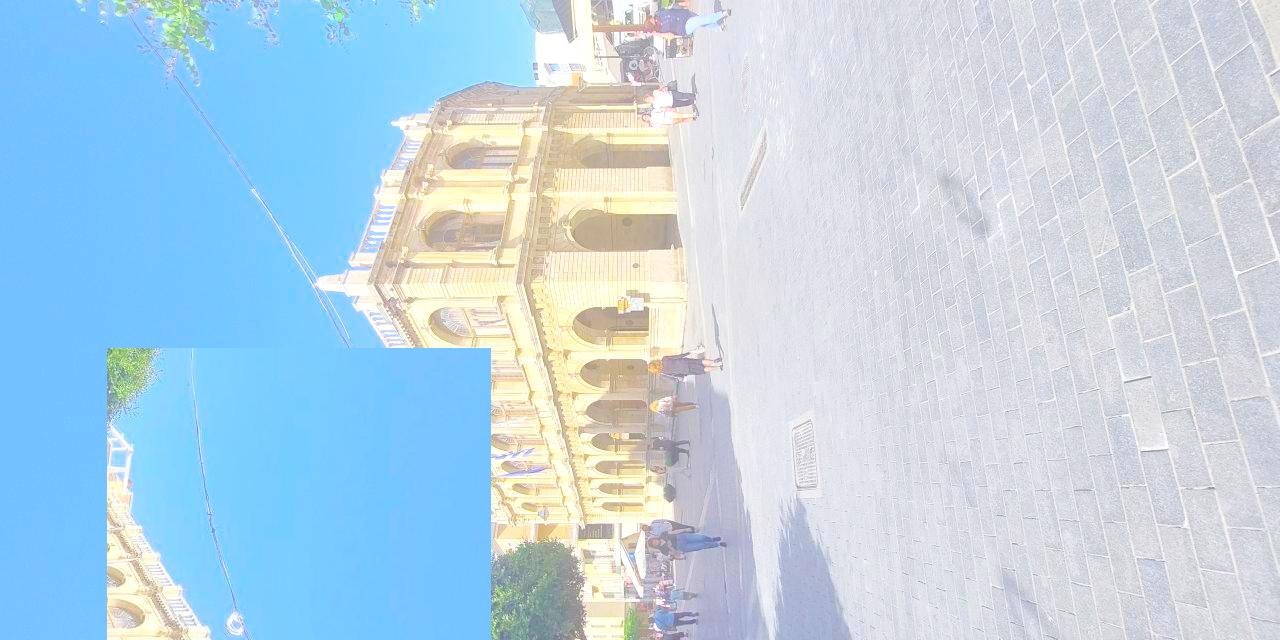Loggia: (108, 349, 492, 640)
